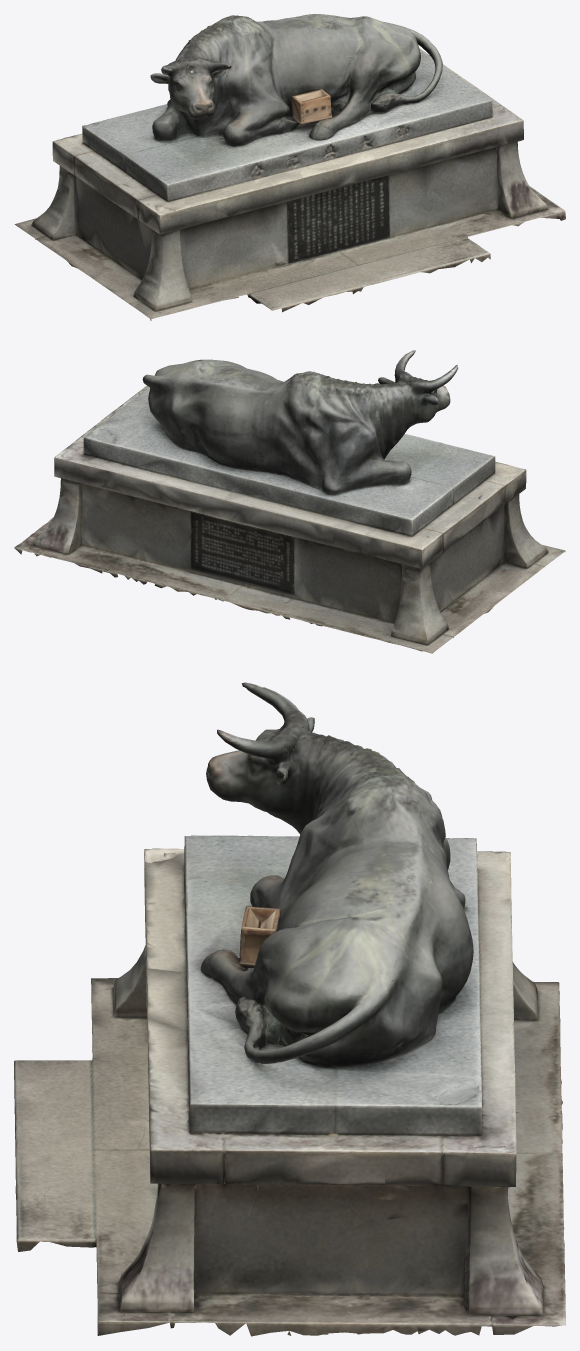
File: cow.glb
3 renders of one model, top to bottom at view 1: azimuth 30°, elevation 25°; view 2: azimuth 150°, elevation 25°; view 3: azimuth 270°, elevation 25°, orthographic. The views are drawn at different scales.
Visible parts, largest first — view 1: Object_2; view 2: Object_2; view 3: Object_2.
Part boxes in pixels (<box>): Object_2: <box>14,14,565,320</box>; Object_2: <box>14,350,565,653</box>; Object_2: <box>14,682,565,1336</box>.
Size of the model in its own units: 41.68 by 19.56 by 27.45.
1 material, 1 textured.
